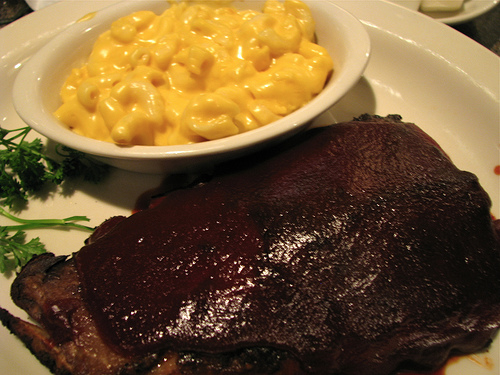macncheese: (43, 1, 339, 149)
